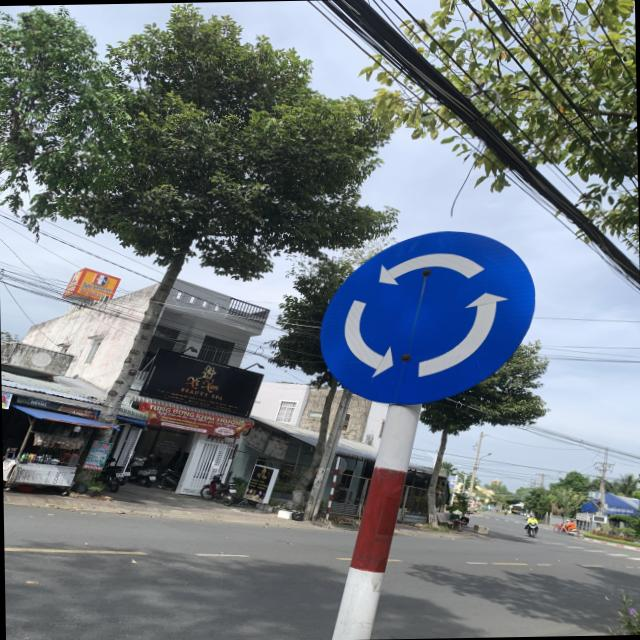Xe_Bus: (316, 229, 539, 406)
